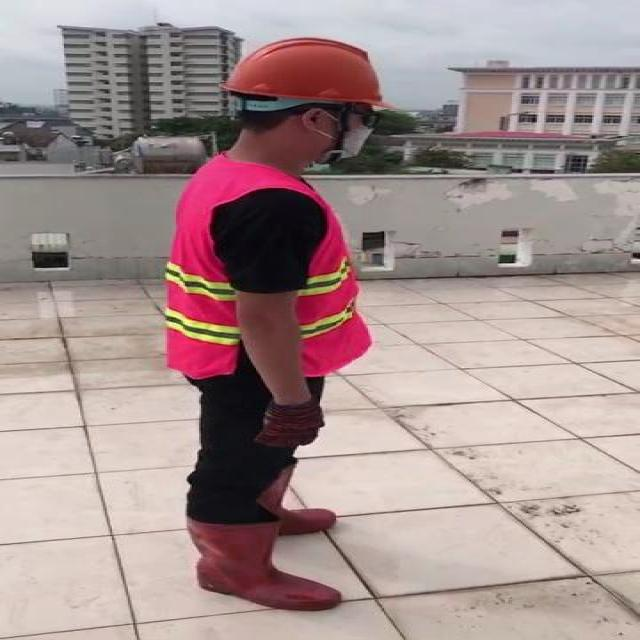boots: (185, 518, 341, 610), (263, 462, 338, 536)
hand_glove: (252, 402, 326, 448)
head_helmet: (216, 33, 388, 113)
person: (144, 34, 416, 613)
vest: (164, 158, 372, 378)
